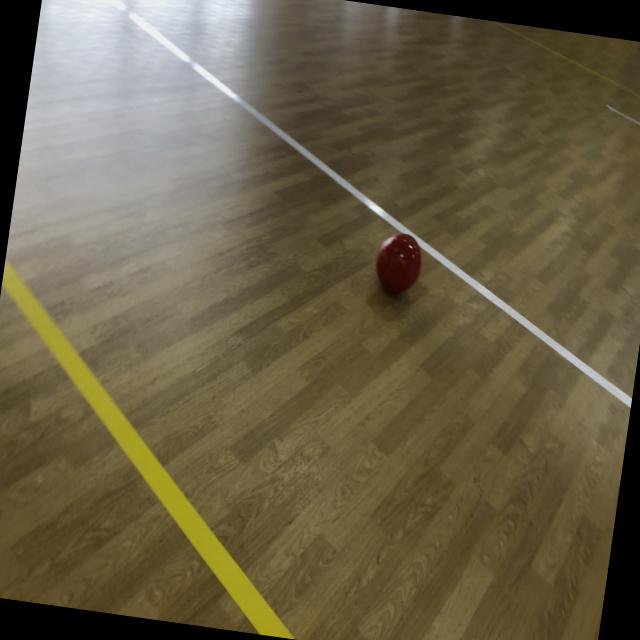red_ball: (372, 228, 428, 302)
